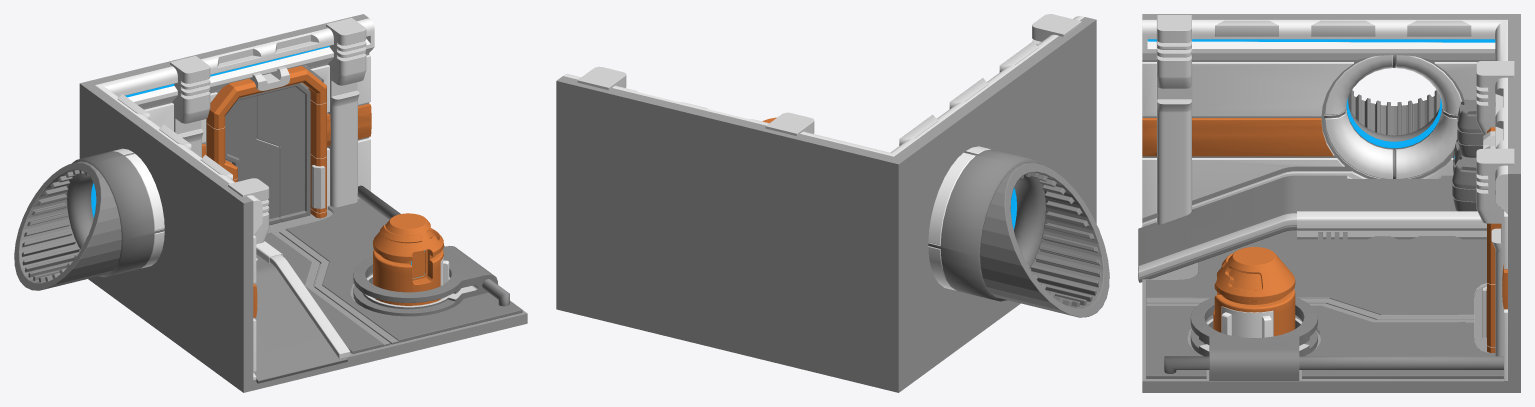
The model's file is scifi_corridor_applied_modifiers.glb.
3 renders of one model, left to right at view 1: azimuth 30°, elevation 25°; view 2: azimuth 150°, elevation 25°; view 3: azimuth 270°, elevation 25°, orthographic. The views are drawn at different scales.
Visible parts, largest first — view 1: Walls, Wall Structure, Floor, Generator, Cylinder.006, Platform, Cylinder.003, Walls.003, Door, Walls.004, Panels, Walls.006 (+3 smaller); view 2: Walls, Cylinder.006, Cylinder.003, Wall Structure, Entrance, Cube.005; view 3: Floor, Wall Structure, Panels, Walls, Platform, Generator, Entrance, Vert, Cylinder, Cube.005, Cylinder.006, Walls.006 (+6 smaller).
Part boxes in pixels (bbox=[...]): Walls: bbox=[79, 14, 527, 392]; Wall Structure: bbox=[95, 17, 374, 318]; Floor: bbox=[265, 198, 522, 353]; Generator: bbox=[353, 213, 498, 316]; Cylinder.006: bbox=[14, 161, 121, 290]; Platform: bbox=[253, 254, 348, 383]; Cylinder.003: bbox=[67, 151, 164, 277]; Walls.003: bbox=[256, 83, 310, 222]; Door: bbox=[206, 65, 326, 218]; Walls.004: bbox=[225, 93, 280, 225]; Panels: bbox=[144, 55, 371, 380]; Walls.006: bbox=[269, 254, 350, 359]; Walls: bbox=[556, 17, 1096, 392]; Cylinder.006: bbox=[980, 161, 1109, 317]; Cylinder.003: bbox=[928, 149, 1045, 301]; Wall Structure: bbox=[563, 14, 1083, 156]; Entrance: bbox=[928, 146, 990, 290]; Cube.005: bbox=[899, 41, 1038, 145]; Floor: bbox=[1146, 230, 1503, 378]; Wall Structure: bbox=[1142, 15, 1514, 356]; Panels: bbox=[1142, 62, 1507, 381]; Walls: bbox=[1142, 14, 1520, 392]; Platform: bbox=[1138, 175, 1456, 282]; Generator: bbox=[1190, 247, 1317, 380]; Entrance: bbox=[1324, 55, 1461, 178]; Vert: bbox=[1297, 211, 1486, 239]; Cylinder: bbox=[1164, 356, 1503, 373]; Cube.005: bbox=[1215, 20, 1471, 36]; Cylinder.006: bbox=[1348, 90, 1440, 135]; Walls.006: bbox=[1138, 213, 1296, 277].
Size of what is drawn, in the model's own units: 11.46 by 5.34 by 8.37.
